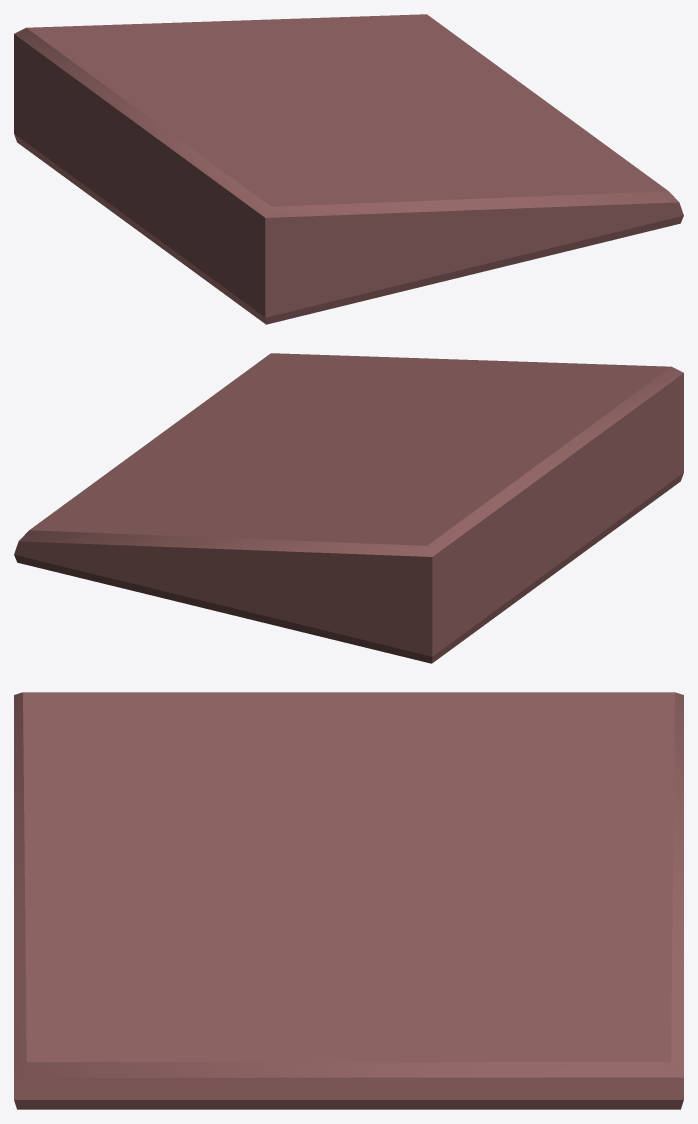
File: Module_Ss_floor_surf_4.FBX
3 renders of one model, top to bottom at view 1: azimuth 30°, elevation 25°; view 2: azimuth 150°, elevation 25°; view 3: azimuth 270°, elevation 25°, orthographic. The views are drawn at different scales.
Visible parts, largest first — view 1: Module_Ss_floor_surf_4; view 2: Module_Ss_floor_surf_4; view 3: Module_Ss_floor_surf_4.
Boxes of the visible parts, x1=… form: Module_Ss_floor_surf_4: x1=14, y1=14, x2=683, y2=324; Module_Ss_floor_surf_4: x1=14, y1=353, x2=683, y2=663; Module_Ss_floor_surf_4: x1=14, y1=692, x2=683, y2=1109.
Bounding box in the file's own units: 37.95 × 9.93 × 39.5.
